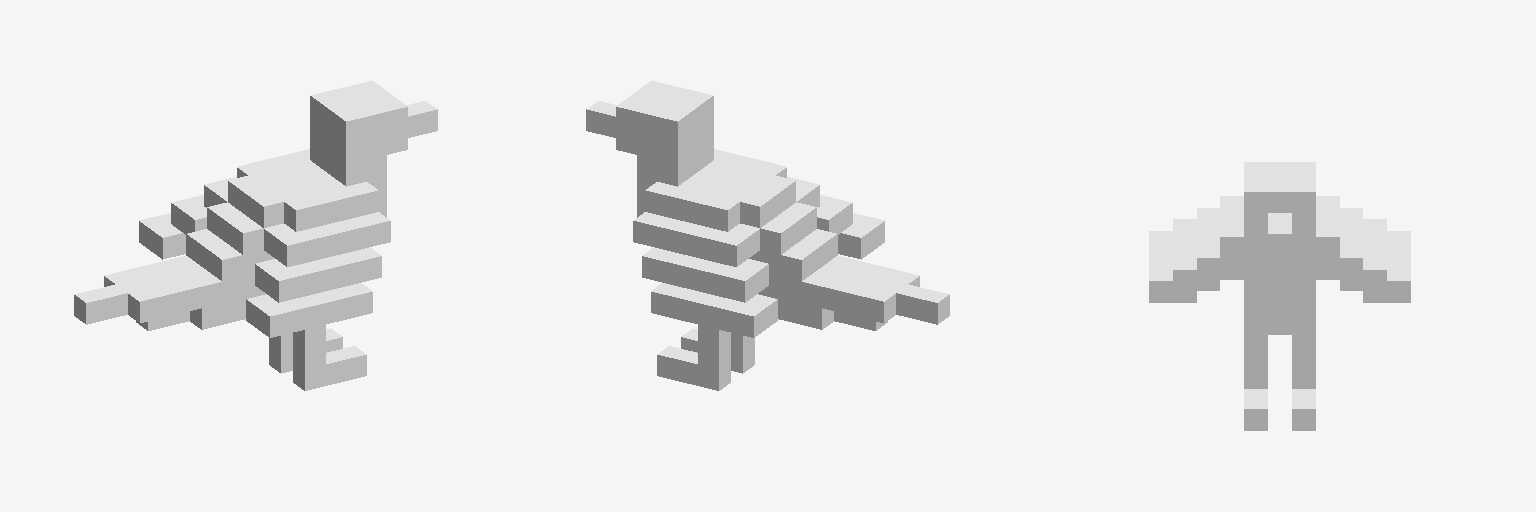
The model's file is Gull@Flying-01.obj.
3 views of the same model, side by side, from view 1: azimuth 30°, elevation 25°; view 2: azimuth 150°, elevation 25°; view 3: azimuth 270°, elevation 25° (orthographic).
Size of the model in its own units: 17 by 12 by 11.